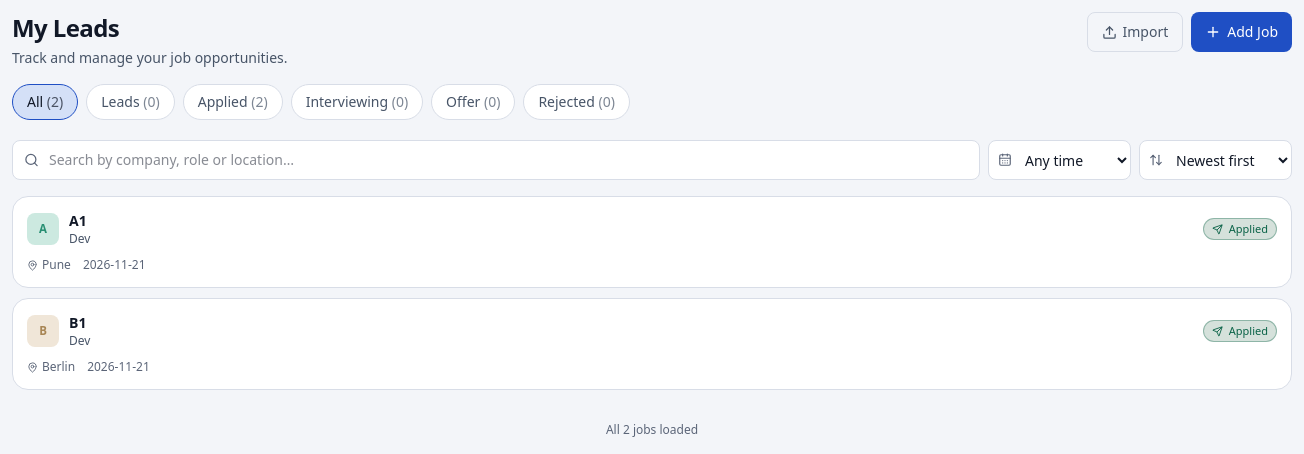
Scenario: MyLeads › searches by location
The width and height of the screenshot is (1304, 454).
Step 1. Type "berlin" into the field named "Search leads" → {"x": 496, "y": 160}, box left=12, top=140, right=980, bottom=180
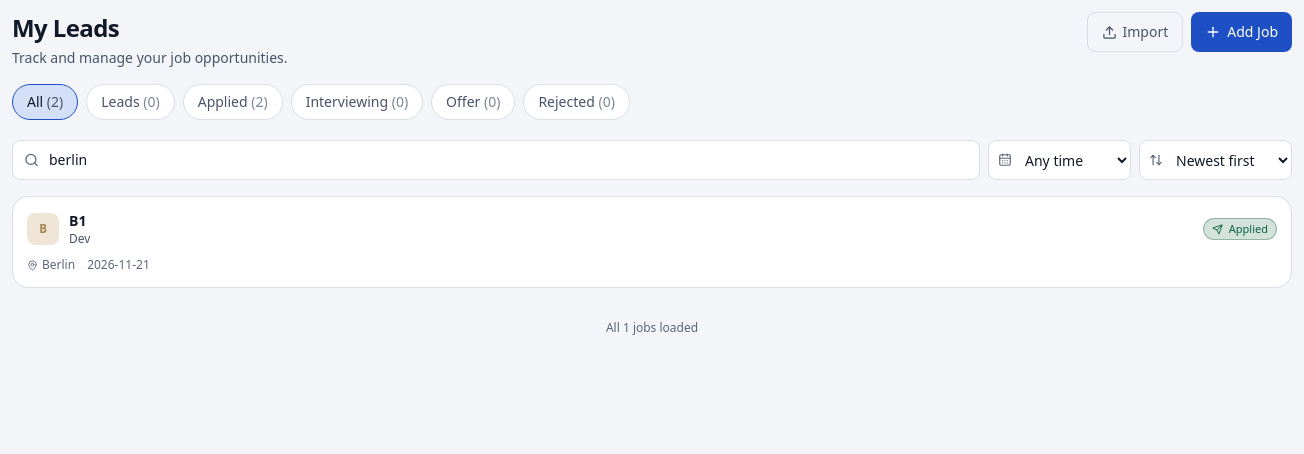
Expected: the text "B1" is shown, left=69, top=211, right=86, bottom=230
Result: the button "A1" is gone
